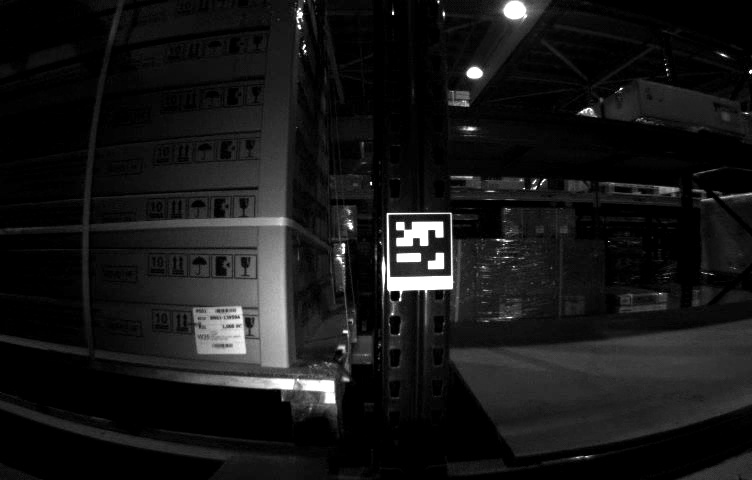True Barcode: (191, 305, 246, 354)
